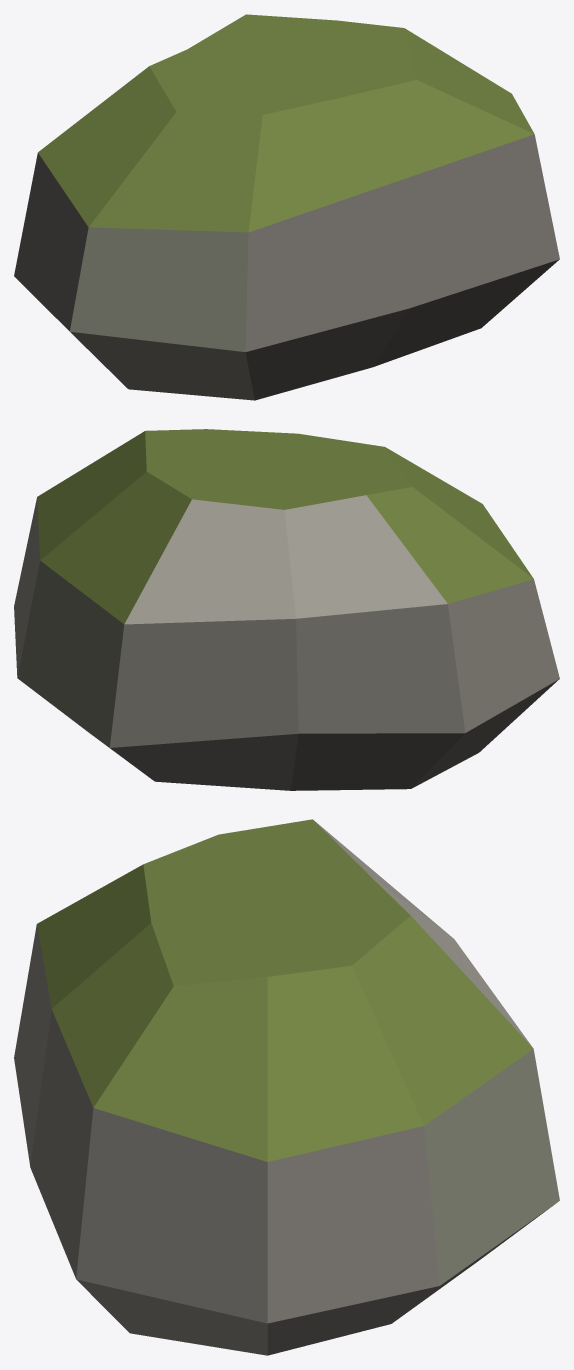
Rendered from SM_Wafu_MossRock_M_01.fbx.
3 renders of one model, top to bottom at view 1: azimuth 30°, elevation 25°; view 2: azimuth 150°, elevation 25°; view 3: azimuth 270°, elevation 25°, orthographic. The views are drawn at different scales.
Visible parts, largest first — view 1: SM_Wafu_MossRock_M_01; view 2: SM_Wafu_MossRock_M_01; view 3: SM_Wafu_MossRock_M_01.
Part boxes in pixels (bbox=[...]): SM_Wafu_MossRock_M_01: bbox=[14, 14, 559, 400]; SM_Wafu_MossRock_M_01: bbox=[14, 429, 559, 790]; SM_Wafu_MossRock_M_01: bbox=[14, 819, 559, 1355].
Size of what is drawn, in the model's own units: 1.66 by 0.858 by 1.21.
